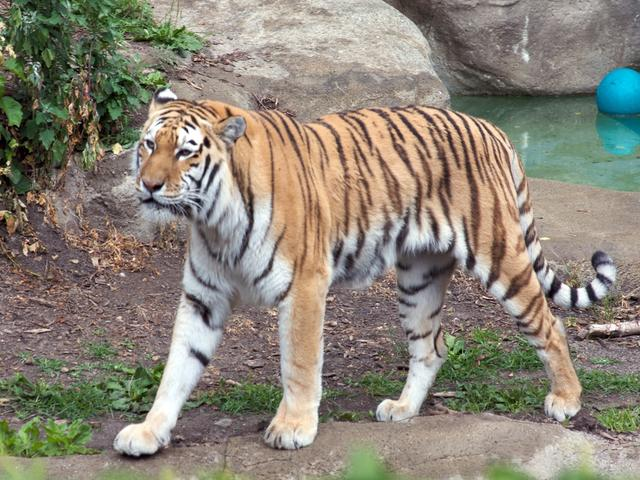tiger: (65, 34, 610, 390)
